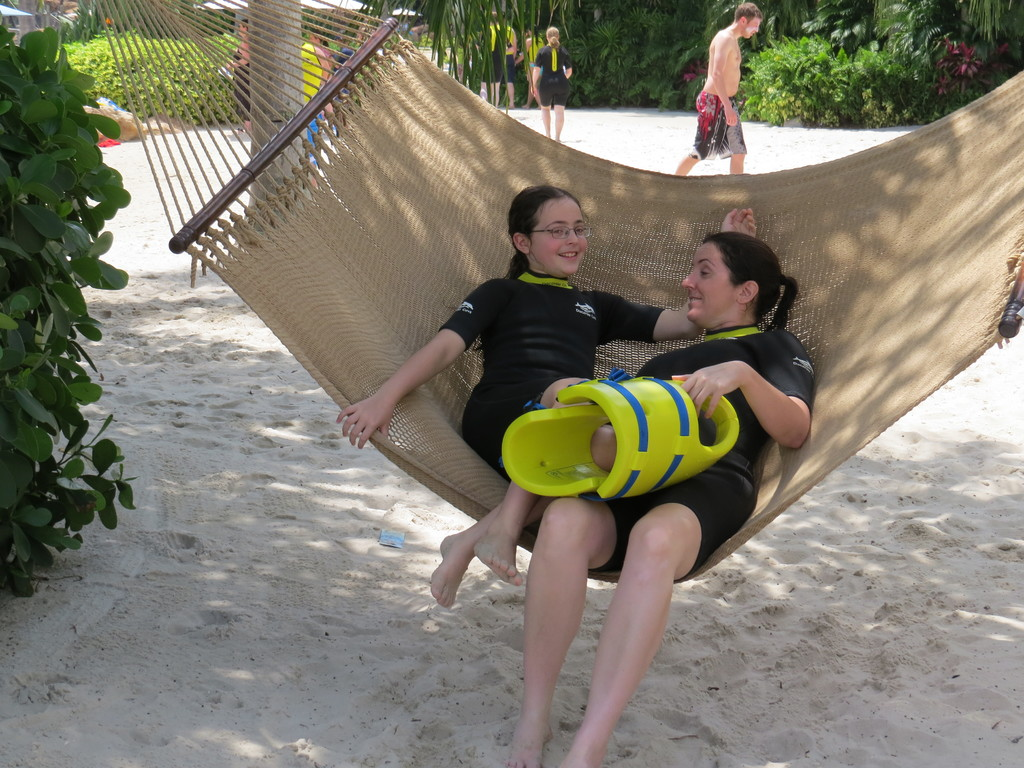Person: (335, 182, 759, 609), (525, 231, 817, 768), (224, 20, 375, 191), (674, 2, 764, 175), (441, 12, 543, 110), (532, 26, 574, 142)
